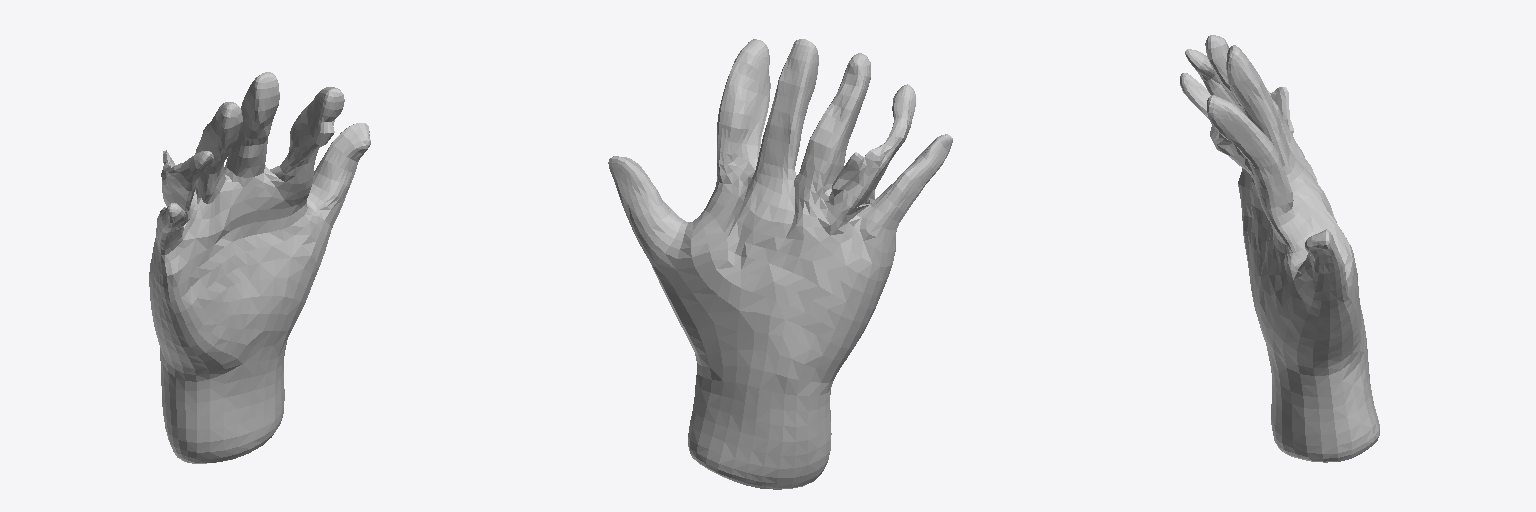
Rendered from hand.obj.
3 views of the same model, side by side, from view 1: azimuth 30°, elevation 25°; view 2: azimuth 150°, elevation 25°; view 3: azimuth 270°, elevation 25° (orthographic).
Parts seen in each view (by area): view 1: mesh; view 2: mesh; view 3: mesh.
Boxes of the visible parts, <box> form: mesh: <box>149,72,370,463</box>; mesh: <box>608,39,952,489</box>; mesh: <box>1180,35,1379,462</box>.
Size of the model in its own units: 0.7006 by 0.9964 by 0.4478.